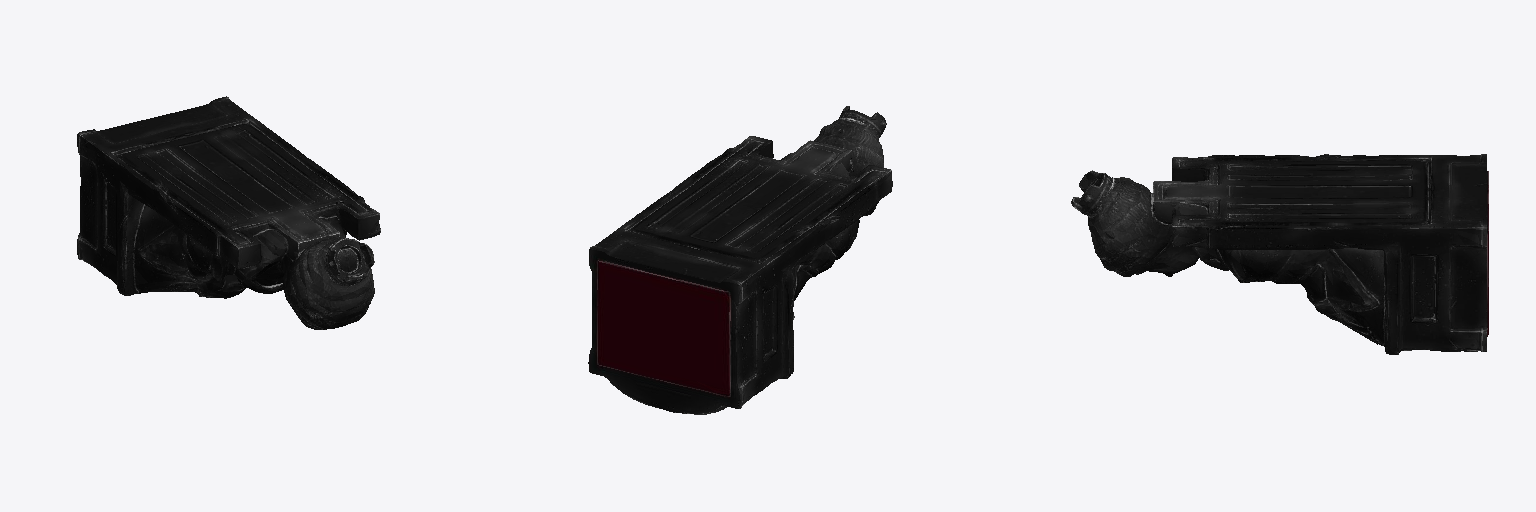
The picture shows the model from 3 angles: view 1: azimuth 30°, elevation 25°; view 2: azimuth 150°, elevation 25°; view 3: azimuth 270°, elevation 25°; orthographic projection.
Parts seen in each view (by area): view 1: mmGroup0; view 2: mmGroup0; view 3: mmGroup0.
Part boxes in pixels (x1,y1,x2,y2): mmGroup0: (77,96,380,329); mmGroup0: (588,106,892,414); mmGroup0: (1071,154,1488,354).
Bounding box in the file's own units: 4.86 × 4.68 × 10.9.
Materials: 1 (1 with a texture image).